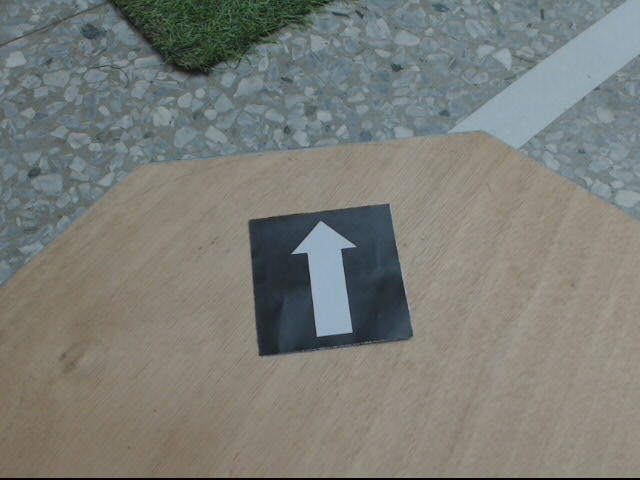straight: (248, 201, 412, 357)
